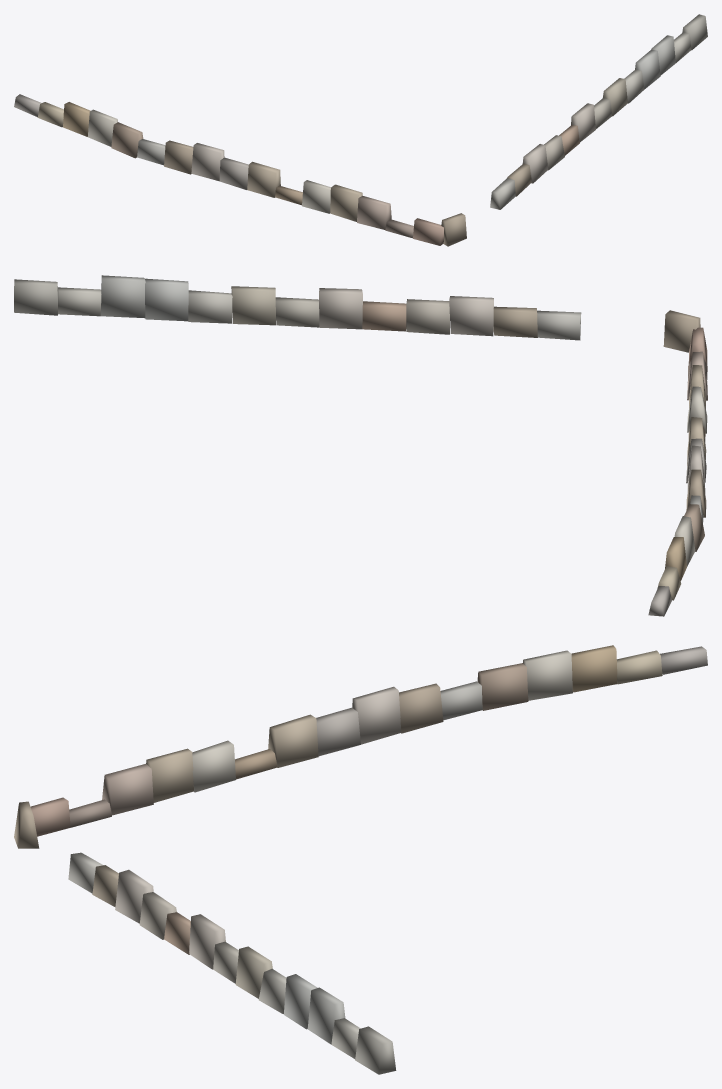
File: farm_-11_9_far.glb
3 renders of one model, top to bottom at view 1: azimuth 30°, elevation 25°; view 2: azimuth 150°, elevation 25°; view 3: azimuth 270°, elevation 25°, orthographic. The views are drawn at different scales.
Parts seen in each view (by area): view 1: geometry_0; view 2: geometry_0; view 3: geometry_0.
Boxes of the visible parts, x1=… form: geometry_0: x1=14, y1=14, x2=707, y2=246; geometry_0: x1=14, y1=275, x2=707, y2=616; geometry_0: x1=14, y1=645, x2=707, y2=1074.
Bounding box in the file's own units: 33.59 × 2.75 × 23.14.
